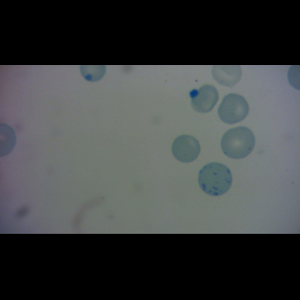aggregate reticulocyte: (197, 161, 234, 197)
erythrocyte: (188, 83, 220, 115), (171, 134, 201, 164)
punctate reticulocyte: (219, 125, 257, 160), (217, 92, 250, 125)
